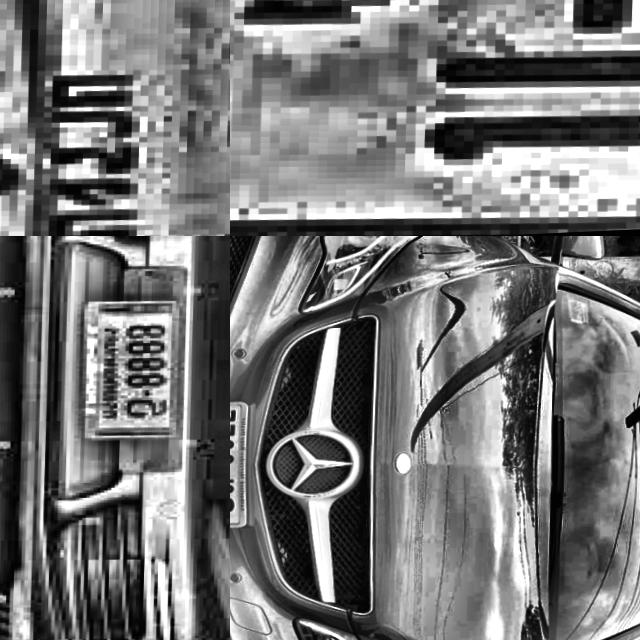license-plate: (230, 0, 640, 236), (0, 0, 230, 236), (76, 297, 187, 443), (230, 398, 250, 530)
